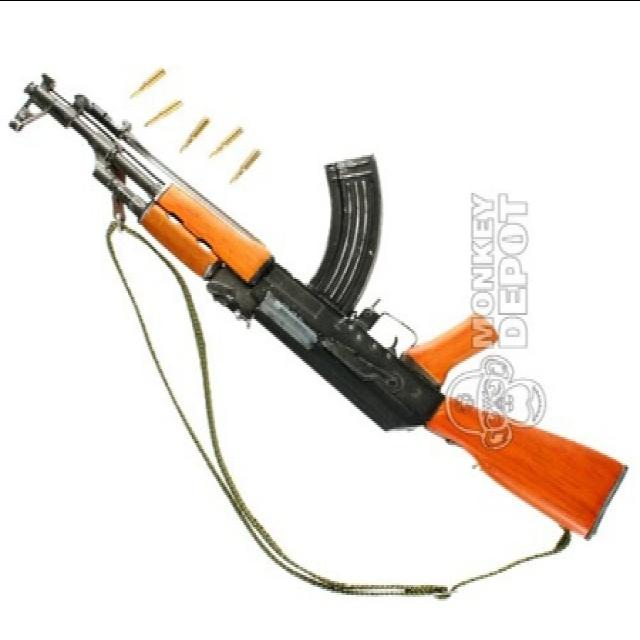rifle: (6, 71, 626, 551)
